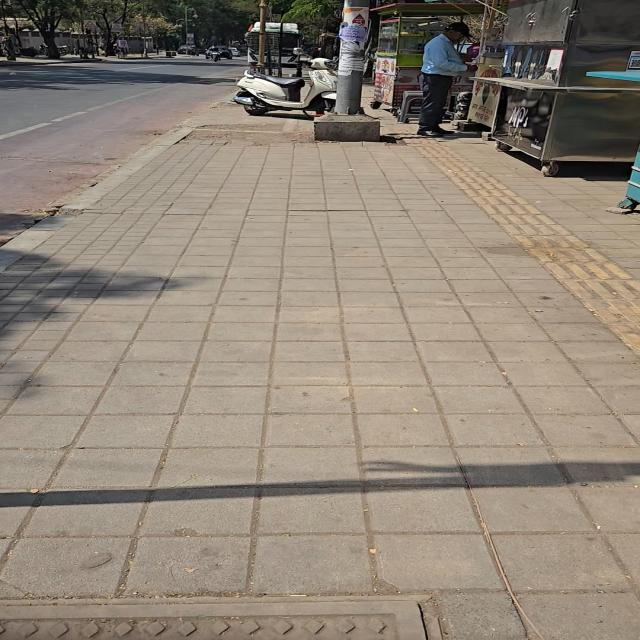person: (418, 22, 475, 136)
pole: (335, 0, 369, 114), (258, 0, 267, 67), (142, 0, 148, 57), (185, 4, 188, 52)
scooter: (233, 58, 337, 115)
